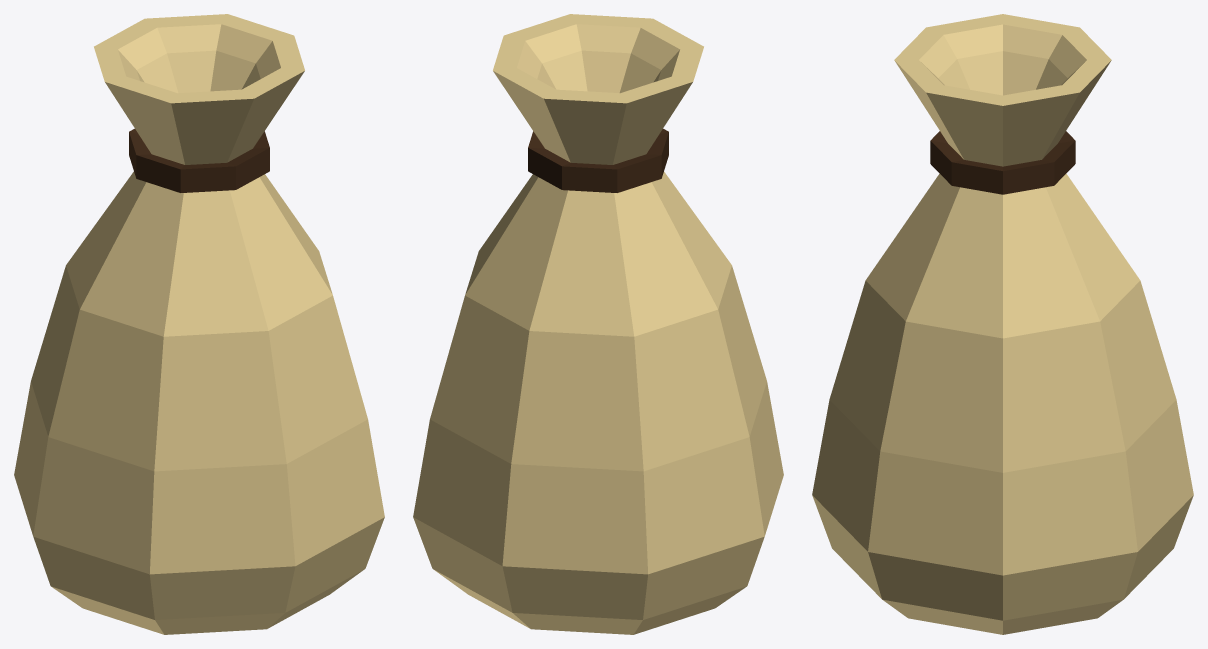
Rendered from 003_Sack.fbx.
3 renders of one model, left to right at view 1: azimuth 30°, elevation 25°; view 2: azimuth 150°, elevation 25°; view 3: azimuth 270°, elevation 25°, orthographic.
Parts seen in each view (by area): view 1: Sack; view 2: Sack; view 3: Sack.
Boxes of the visible parts, box(x1,y1,x2,y2) form: Sack: box(14, 14, 384, 634); Sack: box(413, 14, 783, 634); Sack: box(812, 14, 1193, 634).
Bounding box in the file's own units: 58.08 × 87 × 58.08.
